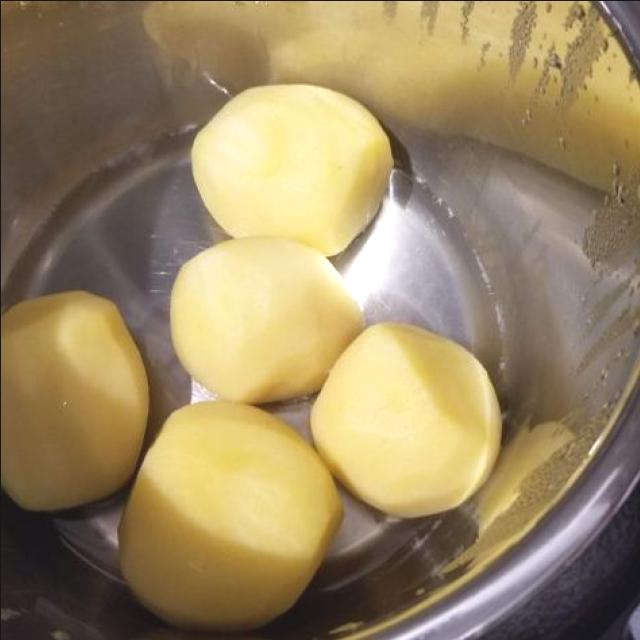kentang rebus: (116, 401, 343, 625), (305, 321, 501, 518), (188, 84, 396, 258), (166, 238, 366, 406), (0, 290, 150, 514)
